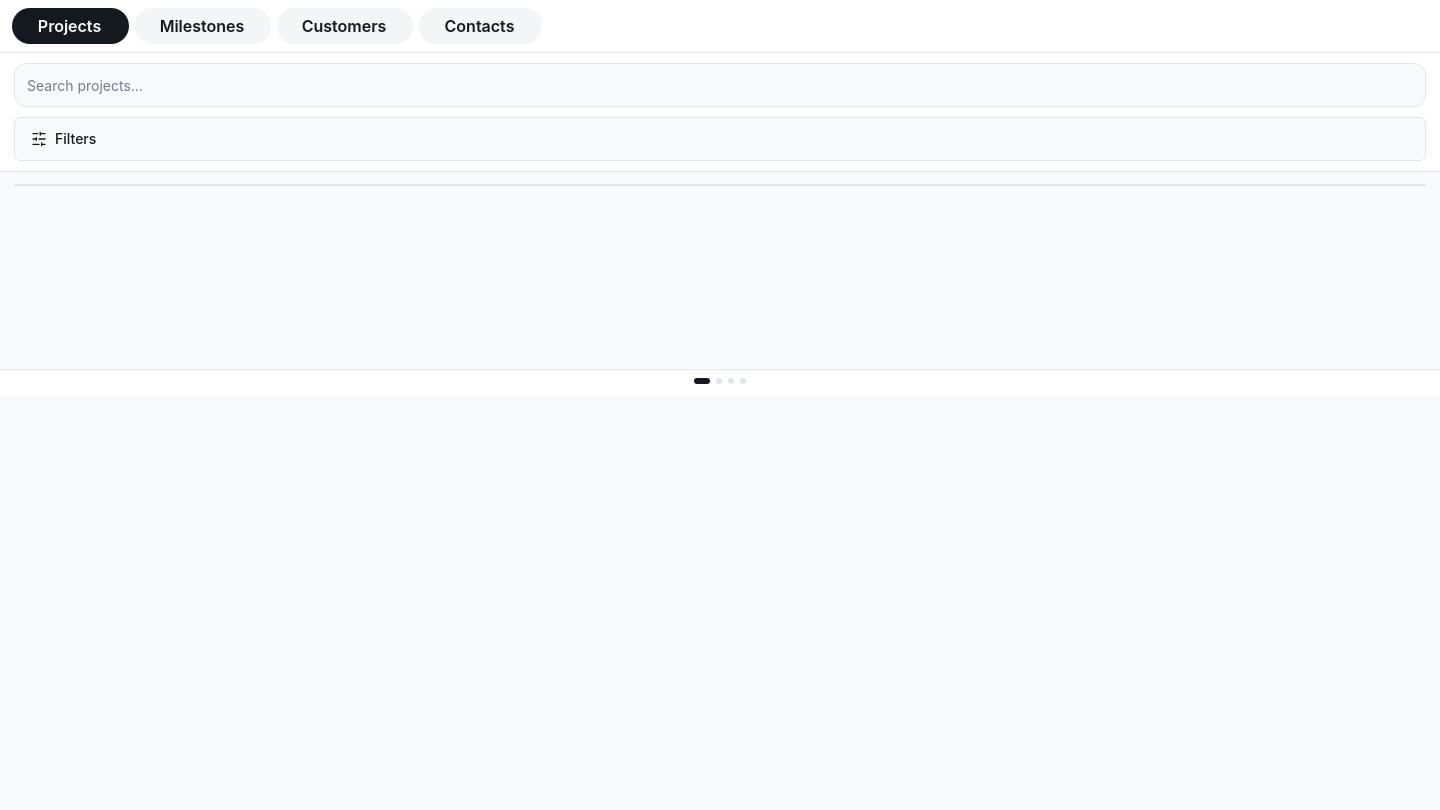
Test: ProjectsPage mobile layout › opens the project filters as a screen
Click the button "Filters": coordinates (76, 138) [14,117,1426,161]
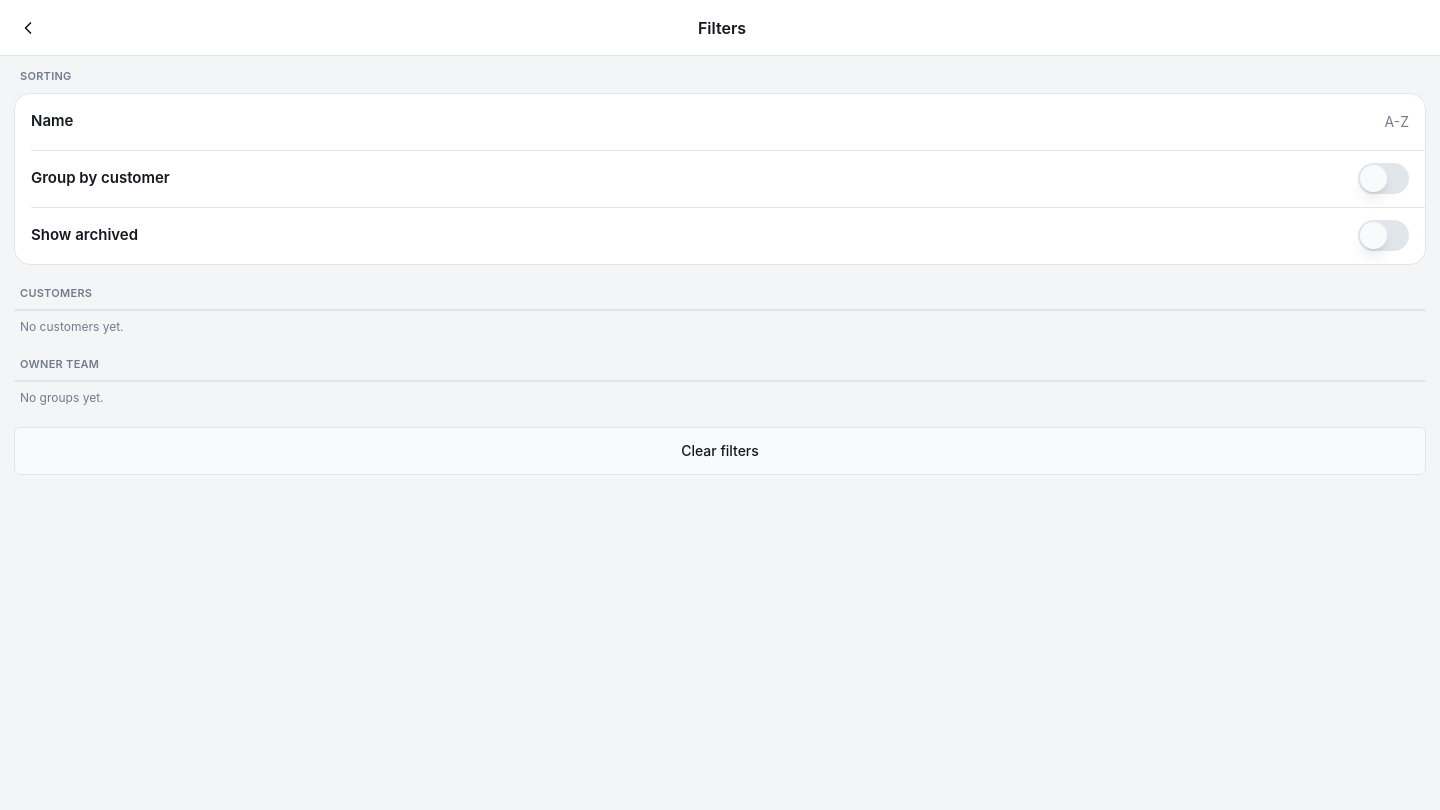
Expected: the text "Customers" is shown, [20,286,92,300]
Expected: the switch named "Show archived" is shown, [1358,220,1409,251]
